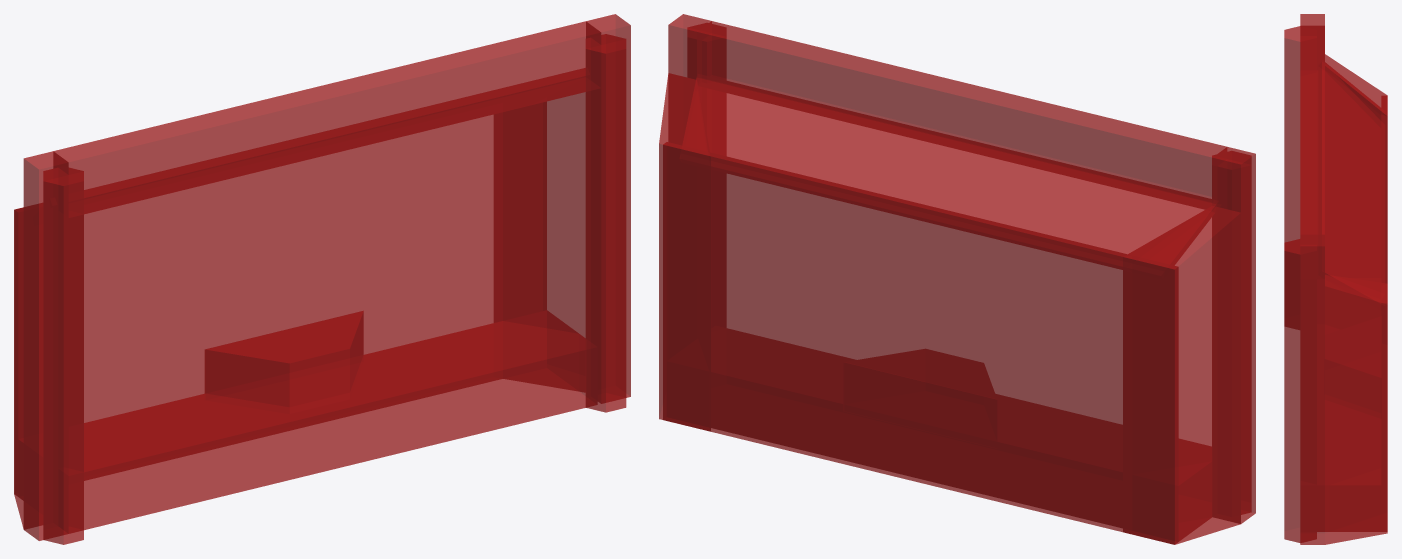
Rendered from SM_Bld_Wall_Seat_Double_01_Collision.fbx.
3 renders of one model, left to right at view 1: azimuth 30°, elevation 25°; view 2: azimuth 150°, elevation 25°; view 3: azimuth 270°, elevation 25°, orthographic. The views are drawn at different scales.
Visible parts, largest first — view 1: SM_Bld_Wall_Seat_Double_01_Collision; view 2: SM_Bld_Wall_Seat_Double_01_Collision; view 3: SM_Bld_Wall_Seat_Double_01_Collision.
Part boxes in pixels (x1,y1,x2,y2): SM_Bld_Wall_Seat_Double_01_Collision: [14, 14, 630, 544]; SM_Bld_Wall_Seat_Double_01_Collision: [659, 14, 1255, 544]; SM_Bld_Wall_Seat_Double_01_Collision: [1284, 14, 1387, 544].
Bounding box in the file's own units: 500 × 300 × 94.32.
